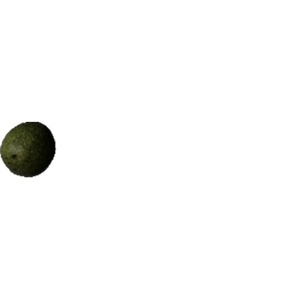abacate: (1, 120, 58, 179)
